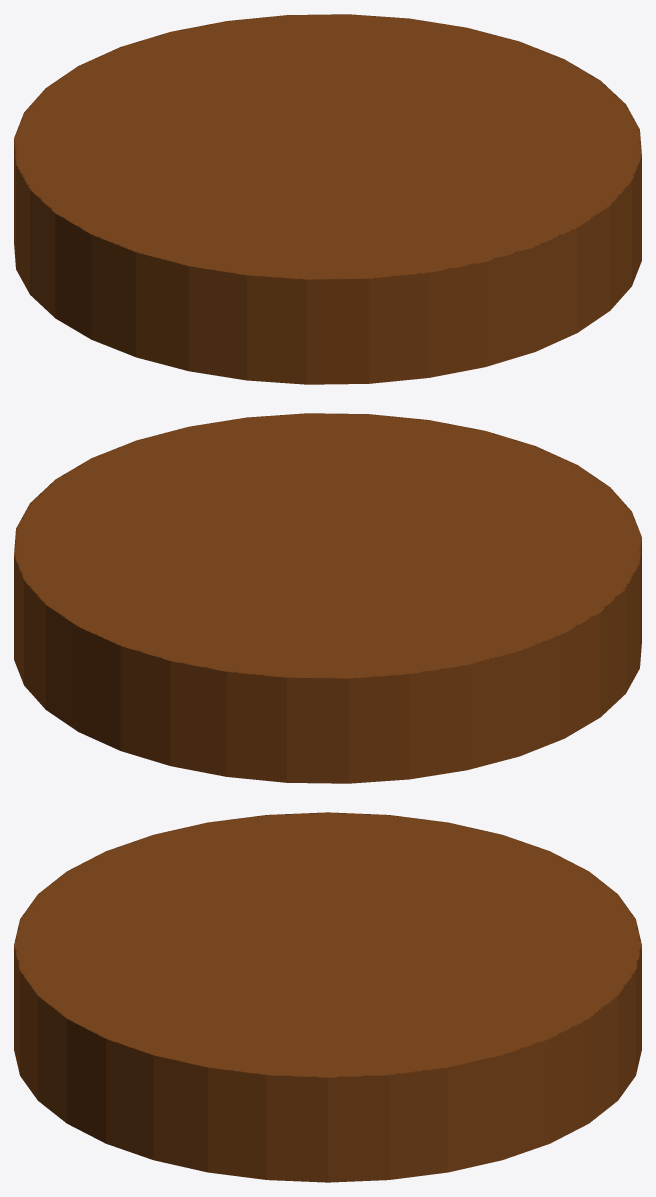
File: oar_burger.glb
3 views of the same model, one above another, from view 1: azimuth 30°, elevation 25°; view 2: azimuth 150°, elevation 25°; view 3: azimuth 270°, elevation 25° (orthographic).
Visible parts, largest first — view 1: Cylinder; view 2: Cylinder; view 3: Cylinder.
Part boxes in pixels (x1,y1,x2,y2): Cylinder: (14,14,641,384); Cylinder: (14,413,641,783); Cylinder: (14,812,641,1182).
Size of the model in its own units: 2 by 0.3684 by 2.
Materials: 1 (1 with a texture image).
